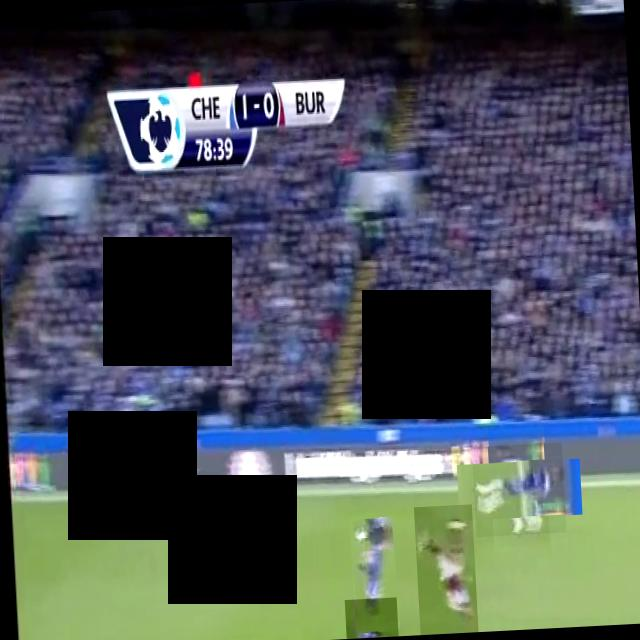soccer-player: (472, 442, 566, 538), (414, 504, 478, 635), (350, 516, 400, 632), (344, 597, 398, 639)
